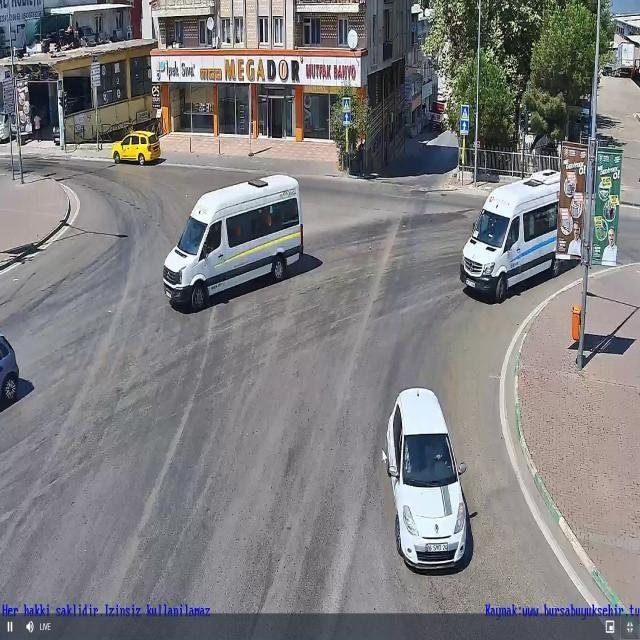Car: (381, 384, 474, 570), (112, 129, 160, 168), (0, 326, 19, 406)
Van: (161, 171, 305, 315), (456, 168, 566, 304)
